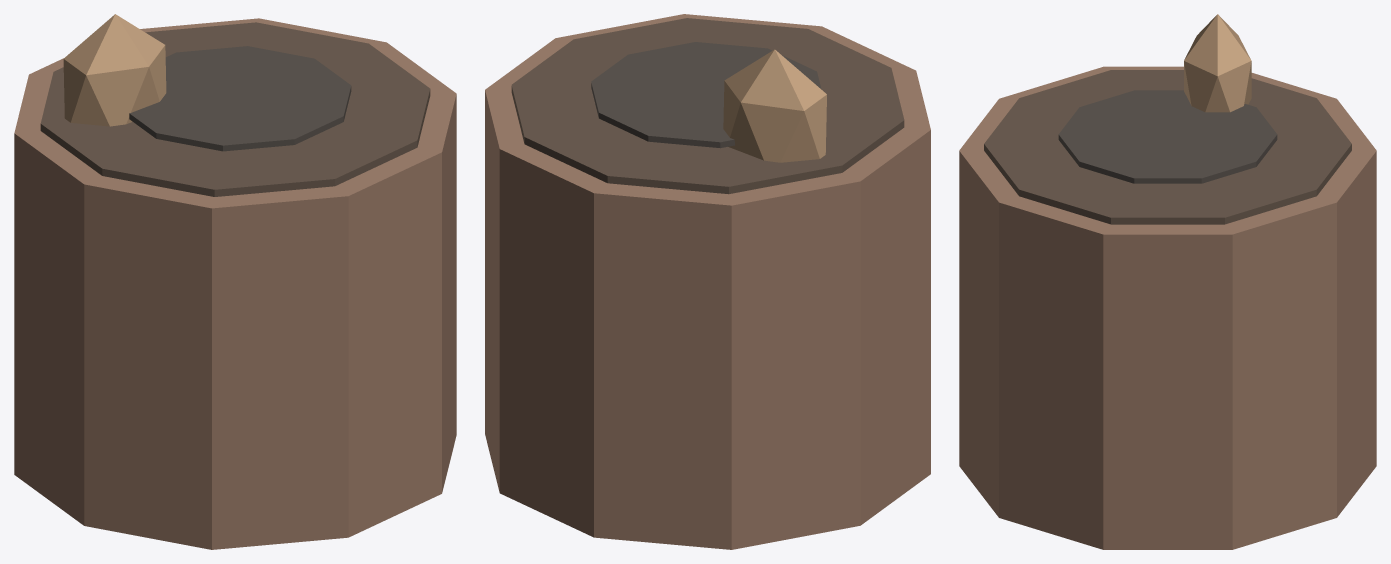
The model's file is Stump_Rotten.glb.
3 views of the same model, side by side, from view 1: azimuth 30°, elevation 25°; view 2: azimuth 150°, elevation 25°; view 3: azimuth 270°, elevation 25° (orthographic). The views are drawn at different scales.
Parts seen in each view (by area): view 1: FTF_Nature_Stump_Rotten_StaticMesh; view 2: FTF_Nature_Stump_Rotten_StaticMesh; view 3: FTF_Nature_Stump_Rotten_StaticMesh.
Part boxes in pixels (x1=…): FTF_Nature_Stump_Rotten_StaticMesh: x1=14, y1=14, x2=456, y2=549; FTF_Nature_Stump_Rotten_StaticMesh: x1=485, y1=14, x2=930, y2=549; FTF_Nature_Stump_Rotten_StaticMesh: x1=959, y1=14, x2=1376, y2=549.
Size of the model in its own units: 0.7989 by 0.91 by 0.84.
